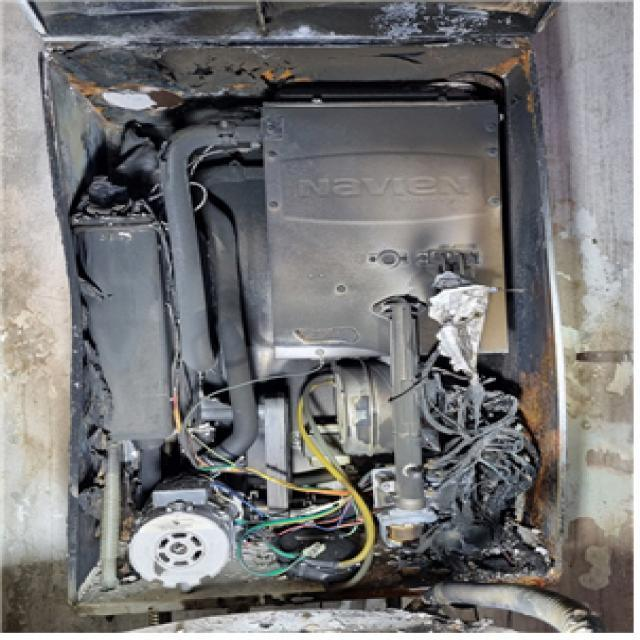Boiler: (22, 15, 640, 621)
